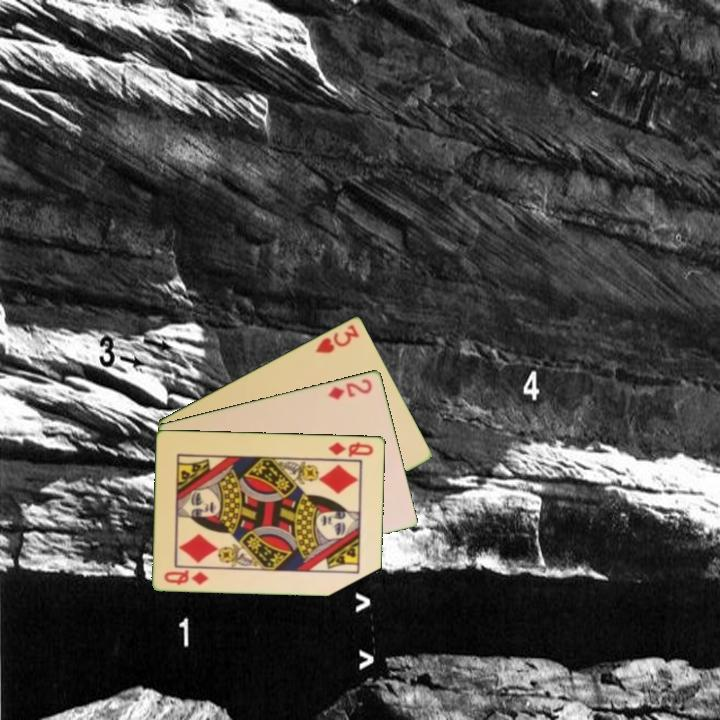2d: (325, 375, 375, 402)
3h: (312, 321, 362, 356)
Qd: (325, 438, 376, 460), (161, 566, 211, 587)
